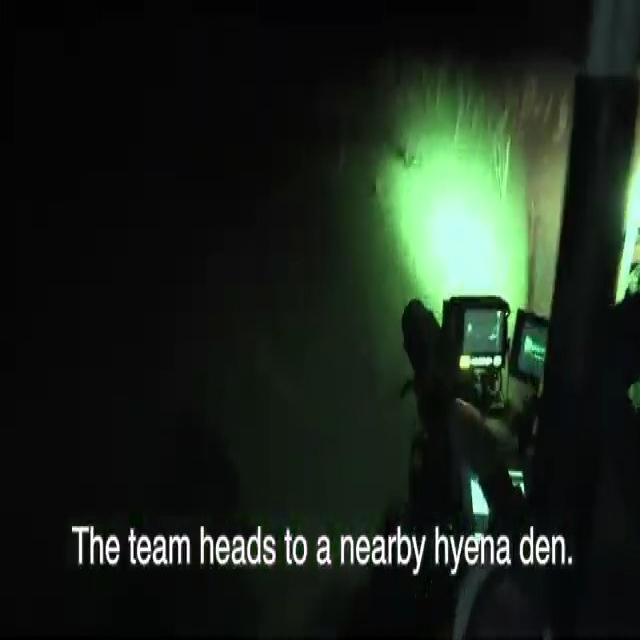device: (393, 282, 574, 519)
